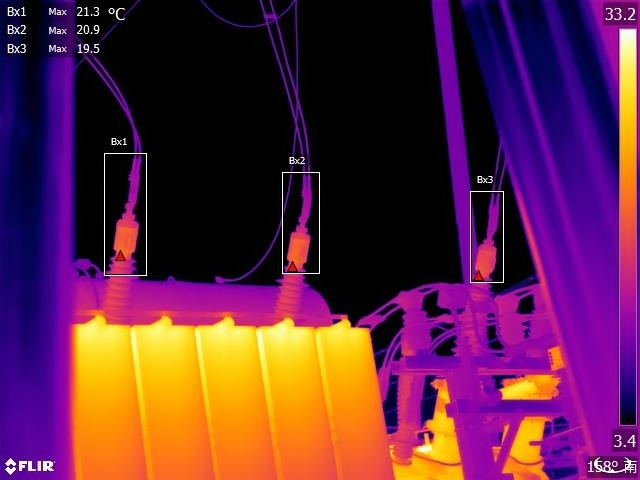post insulator: (395, 307, 426, 453), (495, 297, 526, 343)
transformer: (51, 310, 402, 480)
tube: (268, 214, 321, 319), (96, 199, 141, 319), (459, 238, 498, 350)
